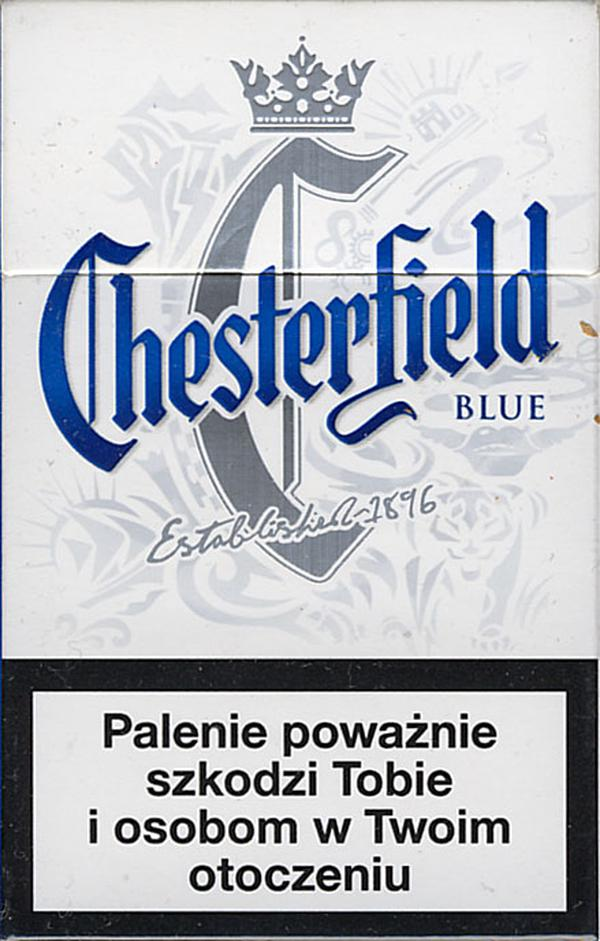chesterfield_blue: (1, 1, 599, 941)
